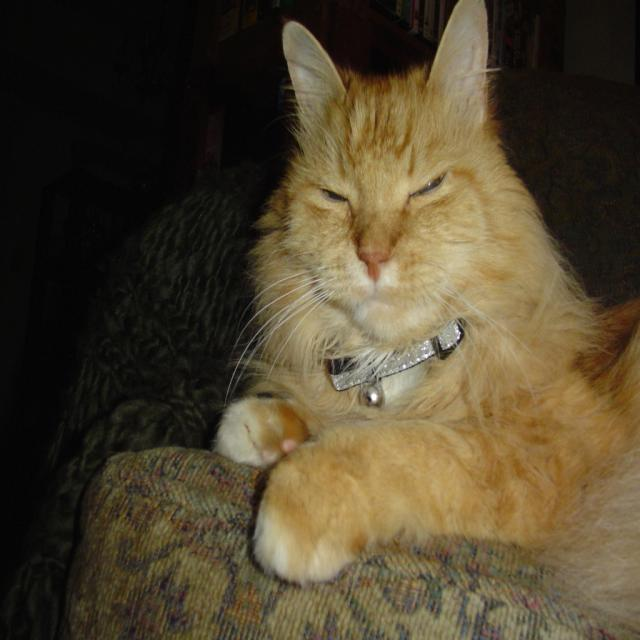Cat: (210, 0, 639, 638)
